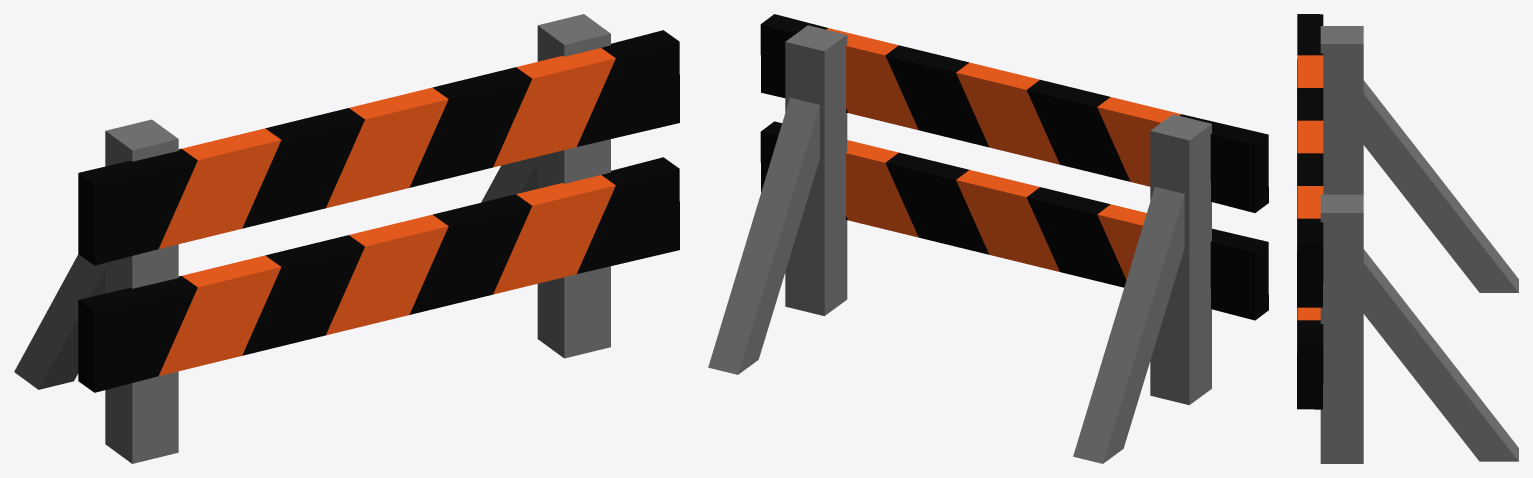
File: barrier.fbx
3 renders of one model, left to right at view 1: azimuth 30°, elevation 25°; view 2: azimuth 150°, elevation 25°; view 3: azimuth 270°, elevation 25°, orthographic. The views are drawn at different scales.
Visible parts, largest first — view 1: barrier_1; view 2: barrier_1; view 3: barrier_1.
Boxes of the visible parts, box(x1,y1,x2,y2) form: barrier_1: box(14, 14, 679, 463); barrier_1: box(708, 14, 1268, 463); barrier_1: box(1297, 14, 1518, 463).
Bounding box in the file's own units: 291 × 149 × 119.
